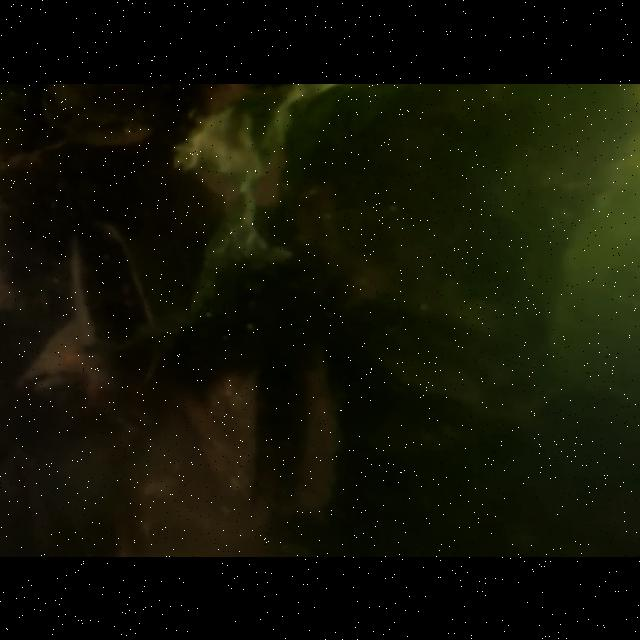Oyster-Open: (188, 324, 342, 516), (67, 216, 155, 348), (36, 84, 162, 148), (15, 317, 94, 395)
